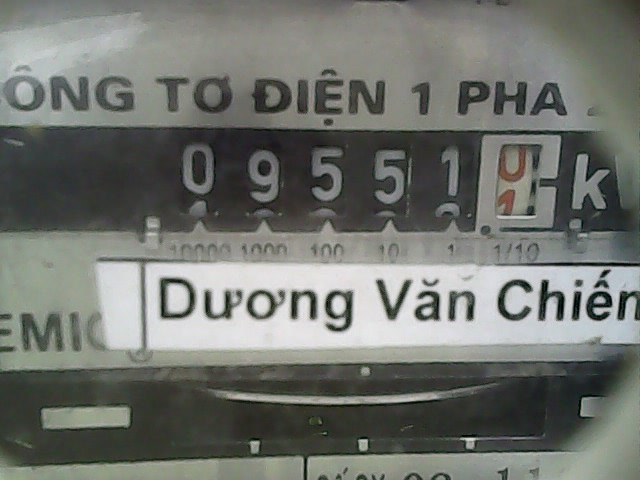phy_plate: (164, 125, 570, 236)
